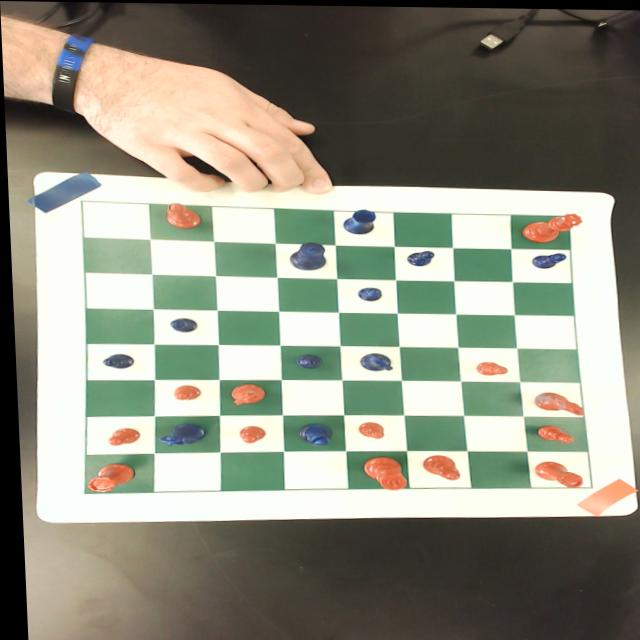B: (294, 421, 329, 445)
K: (285, 241, 324, 269)
N: (155, 422, 206, 447), (356, 350, 392, 370)
P: (530, 250, 567, 266), (97, 352, 132, 367), (404, 248, 435, 264), (293, 352, 321, 368), (354, 285, 381, 300), (167, 317, 195, 331)
R: (340, 207, 375, 233)
b: (161, 202, 200, 227), (418, 453, 456, 478)
k: (358, 454, 403, 488)
n: (529, 390, 580, 413), (224, 382, 263, 404)
p: (533, 422, 571, 442), (102, 426, 138, 445), (354, 419, 383, 437), (236, 424, 264, 442), (473, 359, 505, 374), (170, 384, 198, 400)
q: (518, 210, 581, 241)
r: (528, 458, 579, 487), (83, 462, 132, 492)
